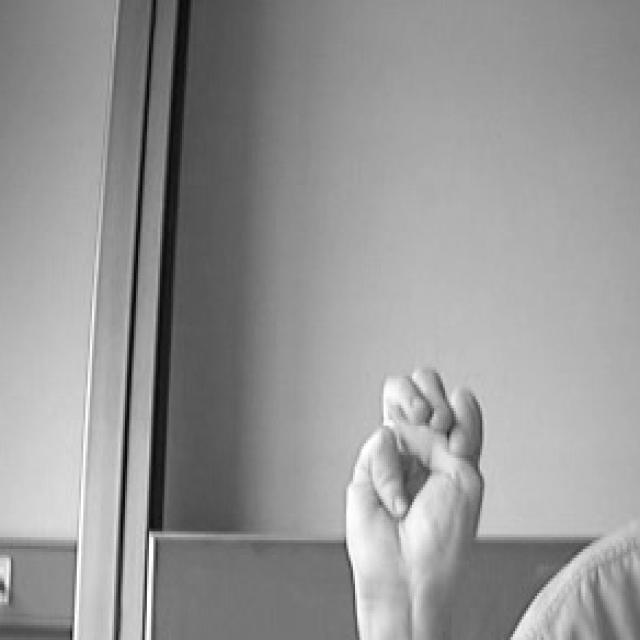M: (335, 350, 502, 601)
